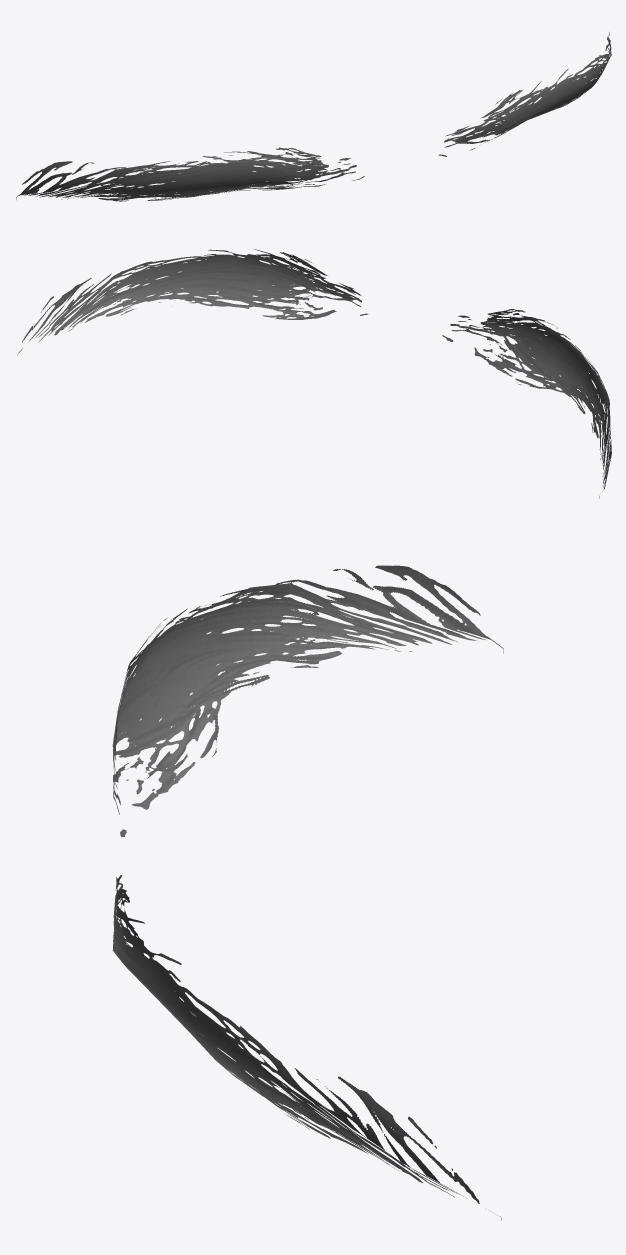
Rendered from brow009.glb.
3 views of the same model, one above another, from view 1: azimuth 30°, elevation 25°; view 2: azimuth 150°, elevation 25°; view 3: azimuth 270°, elevation 25° (orthographic). The views are drawn at different scales.
Parts seen in each view (by area): view 1: editor_brow009; view 2: editor_brow009; view 3: editor_brow009.
Boxes of the visible parts, bbox=[...] form: editor_brow009: bbox=[16, 32, 611, 201]; editor_brow009: bbox=[17, 249, 611, 498]; editor_brow009: bbox=[112, 565, 503, 1220].
Size of the model in its own units: 0.1105 by 0.0181 by 0.0327.
1 material, 1 textured.
